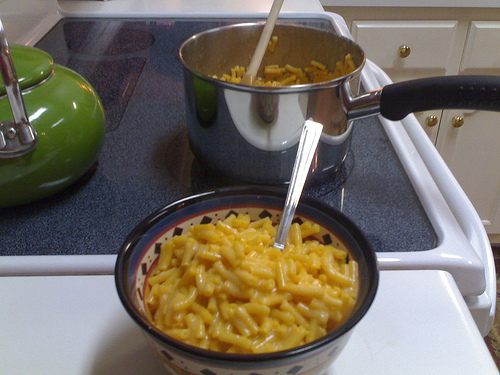macncheese: (136, 209, 361, 352)
